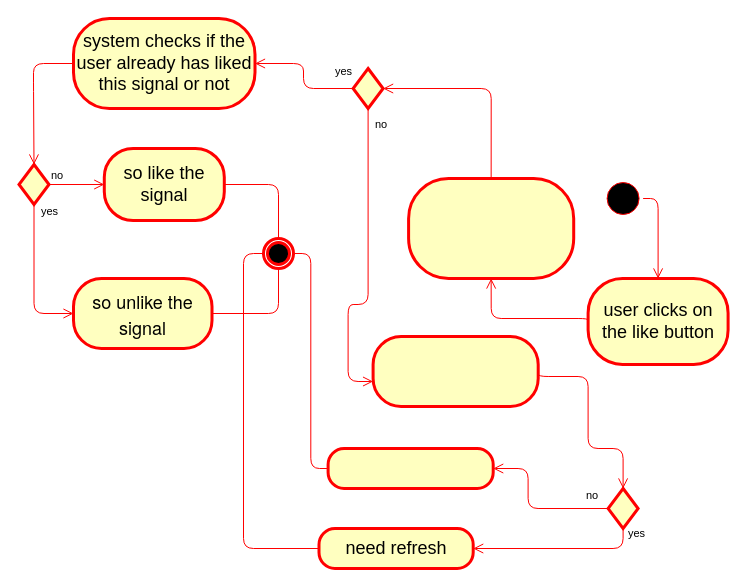
Image size: 747x587. Some labels were removed from this diagram. The shapes that lost their labels are listed below. From the top down, each one's centre as x and y in pixels, then its label:
At (x=491, y=228): "checks if the credentials of user exists or are valid".
At (x=455, y=371): "check if the access token is expired".
At (x=410, y=468): "error message".
